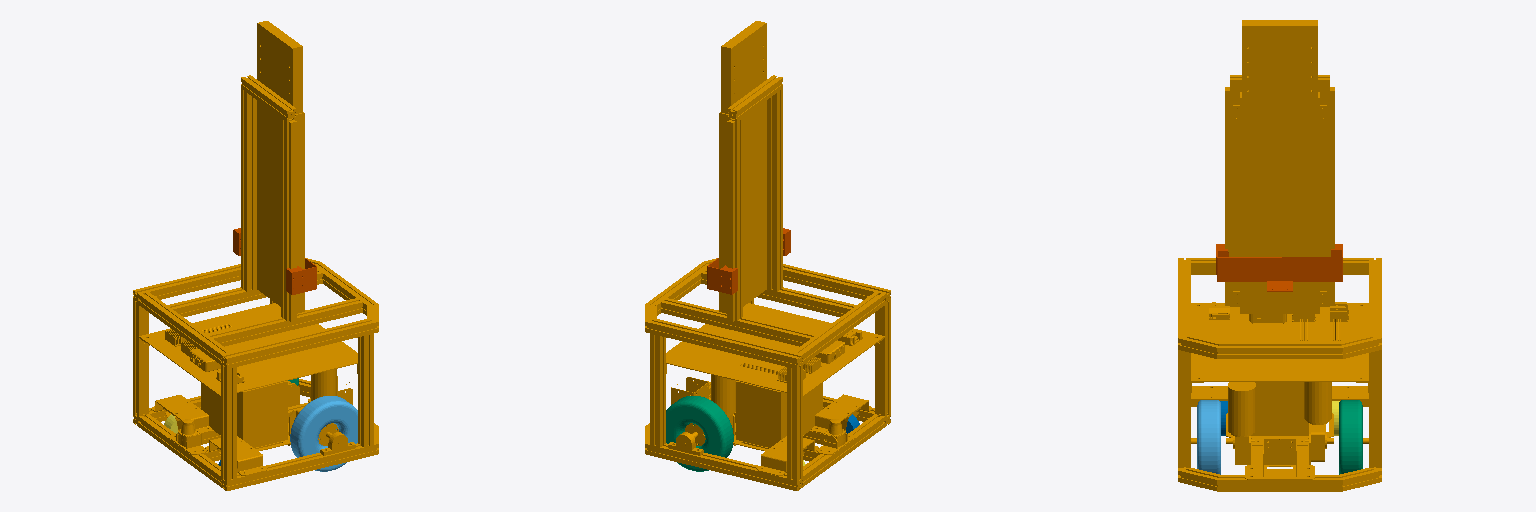
URDF robot description (OPTIMUS_robot_001):
<?xml version="1.0" encoding="utf-8"?>
<!-- =================================================================================== -->
<!-- |    This document was autogenerated by xacro from model.xacro                    | -->
<!-- |    EDITING THIS FILE BY HAND IS NOT RECOMMENDED                                 | -->
<!-- =================================================================================== -->
<robot name="OPTIMUS_robot_001" xmlns:xacro="http://www.ros.org/wiki/xacro">
  <!-- Base Link -->
  <link name="base_link">
    <collision>
      <origin rpy="0 0 0" xyz="0 0 0"/>
      <geometry>
        <mesh filename="package://infi_sim_v1/models/OPTIMUS_robot_001/meshes/base_link_collision.stl" scale="1 1 1"/>
      </geometry>
    </collision>
    <!--<contact_coefficients> </contact_coefficients>-->
    <visual>
      <origin rpy="0 0 0" xyz="0 0 0"/>
      <geometry>
        <mesh filename="package://infi_sim_v1/models/OPTIMUS_robot_001/meshes/base_link.STL" scale="1 1 1"/>
      </geometry>
      <material name="orange"/>
    </visual>
    <inertial>
      <origin rpy="0 0 0" xyz="0.3 0 0.2"/>
      <mass value="50"/>
      <inertia ixx="5.0" ixy="0.0" ixz="0.0" iyy="5.0" iyz="0.0" izz="5.0"/>
    </inertial>
  </link>
  <gazebo reference="base_link">
    <mu1>0.1</mu1>
    <mu2>0.1</mu2>
    <kp>500000.0</kp>
    <kd>10.0</kd>
    <minDepth>0.001</minDepth>
    <maxVel>0.1</maxVel>
    <fdir1>1 0 0</fdir1>
    <material>Gazebo/FlatBlack</material>
  </gazebo>
  <joint name="j_whFL" type="continuous">
    <parent link="base_link"/>
    <child link="whFL"/>
    <origin rpy="0 0 0" xyz="0.4315 -0.185 0.0533"/>
    <axis xyz="0 1 0"/>
  </joint>
  <link name="whFL">
    <collision>
      <origin rpy="0 0 -1.5707963267948966" xyz="0 0 0"/>
      <geometry>
        <mesh filename="package://infi_sim_v1/models/OPTIMUS_robot_001/meshes/wheel_front_left.STL" scale="1 1 1"/>
      </geometry>
    </collision>
    <visual>
      <origin rpy="0 0 -1.5707963267948966" xyz="0 0 0"/>
      <geometry>
        <mesh filename="package://infi_sim_v1/models/OPTIMUS_robot_001/meshes/wheel_front_left.STL" scale="1 1 1"/>
      </geometry>
      <material name="orange"/>
    </visual>
    <inertial>
      <origin rpy="0 0 0" xyz="0 0 0"/>
      <mass value="1"/>
      <inertia ixx="0.2" ixy="0.0" ixz="0.0" iyy="0.2" iyz="0.0" izz="0.2"/>
    </inertial>
  </link>
  <joint name="j_whFR" type="continuous">
    <parent link="base_link"/>
    <child link="whFR"/>
    <origin rpy="0 0 0" xyz="0.4315 0.185 0.0533"/>
    <axis xyz="0 1 0"/>
  </joint>
  <link name="whFR">
    <collision>
      <origin rpy="0 0 1.5707963267948966" xyz="0 0 0"/>
      <geometry>
        <mesh filename="package://infi_sim_v1/models/OPTIMUS_robot_001/meshes/wheel_front_left.STL" scale="1 1 1"/>
      </geometry>
    </collision>
    <visual>
      <origin rpy="0 0 1.5707963267948966" xyz="0 0 0"/>
      <geometry>
        <mesh filename="package://infi_sim_v1/models/OPTIMUS_robot_001/meshes/wheel_front_left.STL" scale="1 1 1"/>
      </geometry>
      <material name="orange"/>
    </visual>
    <inertial>
      <origin rpy="0 0 0" xyz="0 0 0"/>
      <mass value="1"/>
      <inertia ixx="0.2" ixy="0.0" ixz="0.0" iyy="0.2" iyz="0.0" izz="0.2"/>
    </inertial>
  </link>
  <joint name="j_whRL" type="continuous">
    <parent link="base_link"/>
    <child link="whRL"/>
    <origin rpy="0 0 0" xyz="0.095 0.2075 -0.0173"/>
    <axis xyz="0 1 0"/>
  </joint>
  <link name="whRL">
    <collision>
      <origin rpy="1.5707963267948966 0 0" xyz="0 0 0"/>
      <!-- -1.5707963267948966  -->
      <geometry>
        <mesh filename="package://infi_sim_v1/models/OPTIMUS_robot_001/meshes/wheel_back_left.STL" scale="1 1 1"/>
      </geometry>
    </collision>
    <visual>
      <origin rpy="1.5707963267948966 0 0" xyz="0 0 0"/>
      <geometry>
        <mesh filename="package://infi_sim_v1/models/OPTIMUS_robot_001/meshes/wheel_back_left.STL" scale="1 1 1"/>
      </geometry>
      <material name="orange"/>
    </visual>
    <inertial>
      <origin rpy="0 0 0" xyz="0 0 0"/>
      <mass value="1"/>
      <inertia ixx="0.2" ixy="0.0" ixz="0.0" iyy="0.2" iyz="0.0" izz="0.2"/>
    </inertial>
  </link>
  <joint name="j_whRR" type="continuous">
    <parent link="base_link"/>
    <child link="whRR"/>
    <origin rpy="0 0 0" xyz="0.095 -0.2075 -0.0173"/>
    <axis xyz="0 1 0"/>
  </joint>
  <link name="whRR">
    <collision>
      <origin rpy="-1.5707963267948966 0 0" xyz="0 0 0"/>
      <!-- -1.5707963267948966  -->
      <geometry>
        <mesh filename="package://infi_sim_v1/models/OPTIMUS_robot_001/meshes/wheel_back_left.STL" scale="1 1 1"/>
      </geometry>
    </collision>
    <visual>
      <origin rpy="-1.5707963267948966 0 0" xyz="0 0 0"/>
      <geometry>
        <mesh filename="package://infi_sim_v1/models/OPTIMUS_robot_001/meshes/wheel_back_left.STL" scale="1 1 1"/>
      </geometry>
      <material name="orange"/>
    </visual>
    <inertial>
      <origin rpy="0 0 0" xyz="0 0 0"/>
      <mass value="1"/>
      <inertia ixx="0.2" ixy="0.0" ixz="0.0" iyy="0.2" iyz="0.0" izz="0.2"/>
    </inertial>
  </link>
  <joint name="j_elev" type="prismatic">
    <parent link="base_link"/>
    <child link="elevator"/>
    <origin rpy="0 0 0" xyz="0.4065 0 0.595"/>
    <axis xyz="0 0 1"/>
    <limit effort="30" lower="0" upper="0.7" velocity="1.0"/>
  </joint>
  <link name="elevator">
    <collision>
      <origin rpy="0 0 0" xyz="0 0 0"/>
      <!-- -1.5707963267948966  -->
      <geometry>
        <mesh filename="package://infi_sim_v1/models/OPTIMUS_robot_001/meshes/elevator_robotic_arm.STL" scale="1 1 1"/>
      </geometry>
    </collision>
    <visual>
      <origin rpy="0 0 0" xyz="0 0 0"/>
      <geometry>
        <mesh filename="package://infi_sim_v1/models/OPTIMUS_robot_001/meshes/elevator_robotic_arm.STL" scale="1 1 1"/>
      </geometry>
      <material name="orange"/>
    </visual>
    <inertial>
      <origin rpy="0 0 0" xyz="0 0 0"/>
      <mass value="1"/>
      <inertia ixx="0.2" ixy="0.0" ixz="0.0" iyy="0.2" iyz="0.0" izz="0.2"/>
    </inertial>
  </link>
  <gazebo reference="whRL">
    <mu1>0.0000001</mu1>
    <mu2>0.0000001</mu2>
    <kp>500000.0</kp>
    <kd>10.0</kd>
    <minDepth>0.001</minDepth>
    <maxVel>0.1</maxVel>
    <fdir1>1 0 0</fdir1>
    <material>Gazebo/Orange</material>
  </gazebo>
  <gazebo reference="whRR">
    <mu1>0.0000001</mu1>
    <mu2>0.0000001</mu2>
    <kp>500000.0</kp>
    <kd>10.0</kd>
    <minDepth>0.001</minDepth>
    <maxVel>0.1</maxVel>
    <fdir1>1 0 0</fdir1>
    <material>Gazebo/Orange</material>
  </gazebo>
</robot>

--- Render facts (derived) ---
Views: 3 orthographic renders of the robot side by side, from view 1: azimuth 30°, elevation 25°; view 2: azimuth 150°, elevation 25°; view 3: azimuth 270°, elevation 25°.
Model OPTIMUS_robot_001 with 6 links and 5 joints (4 continuous, 1 prismatic), rooted at base_link, posed all joints at 0.
Visible links, largest first — view 1: base_link, whFL, elevator; view 2: base_link, whFR, elevator; view 3: base_link, elevator, whFL, whFR.
Link boxes in pixels (<box>): base_link: <box>133,21,378,490</box>; whFL: <box>290,396,357,471</box>; elevator: <box>233,228,316,294</box>; base_link: <box>645,21,890,490</box>; whFR: <box>666,396,733,471</box>; elevator: <box>707,228,790,294</box>; base_link: <box>1178,20,1381,491</box>; elevator: <box>1216,244,1342,291</box>; whFL: <box>1197,400,1220,474</box>; whFR: <box>1339,400,1362,474</box>.
Bounding box of the posed robot: 0.67 × 0.64 × 1.56 m (x, y, z).
Meshes: 4 distinct files referenced, 6 mesh visuals loaded (4 binary STL).